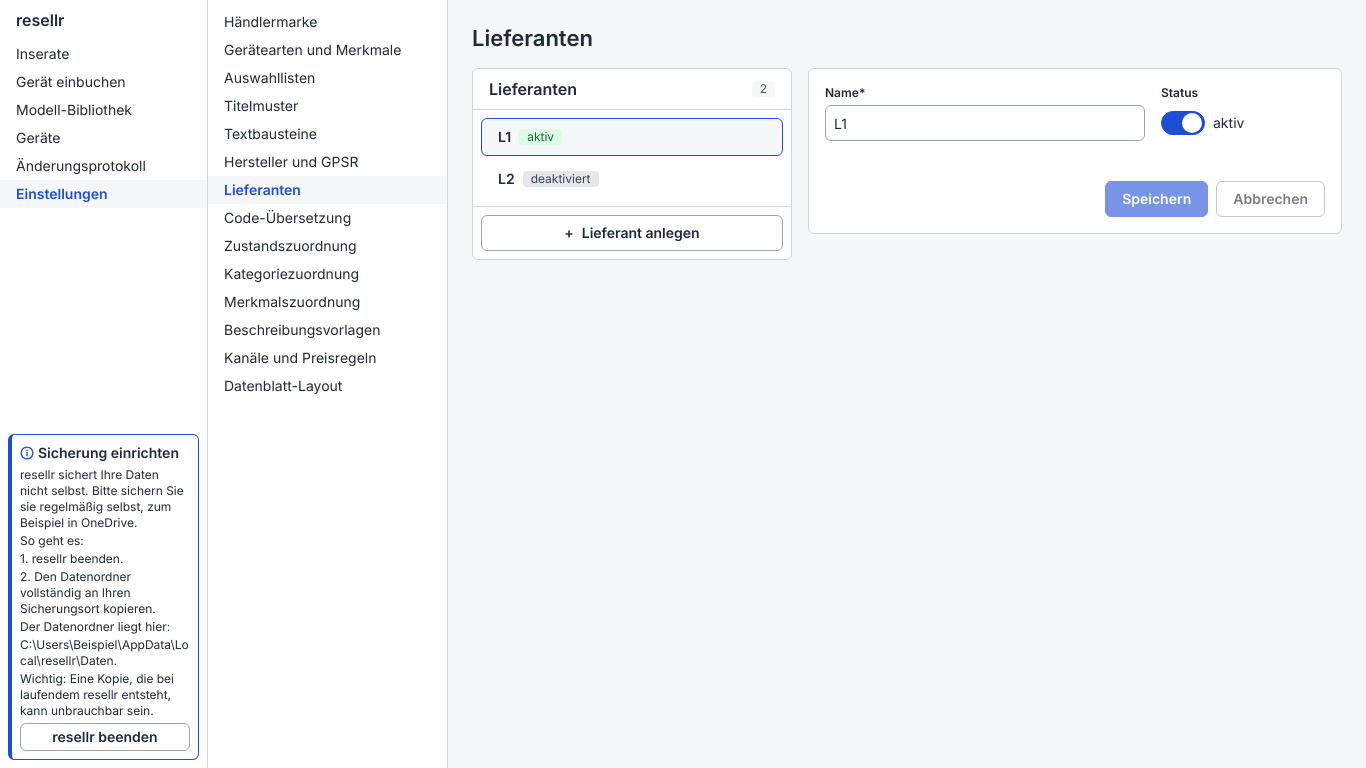
UI-032 suppliers (CU-099) › UI-032.success AC-REQ-099-03 the switch deactivates a supplier
The width and height of the screenshot is (1366, 768).
expect the button "L1 aktiv" is shown: met, box left=481, top=118, right=783, bottom=156
expect the field labelled "Name*" holds "L1": met, box left=825, top=105, right=1145, bottom=141
Click the switch named "Status" at (1183, 123), box left=1161, top=111, right=1205, bottom=135
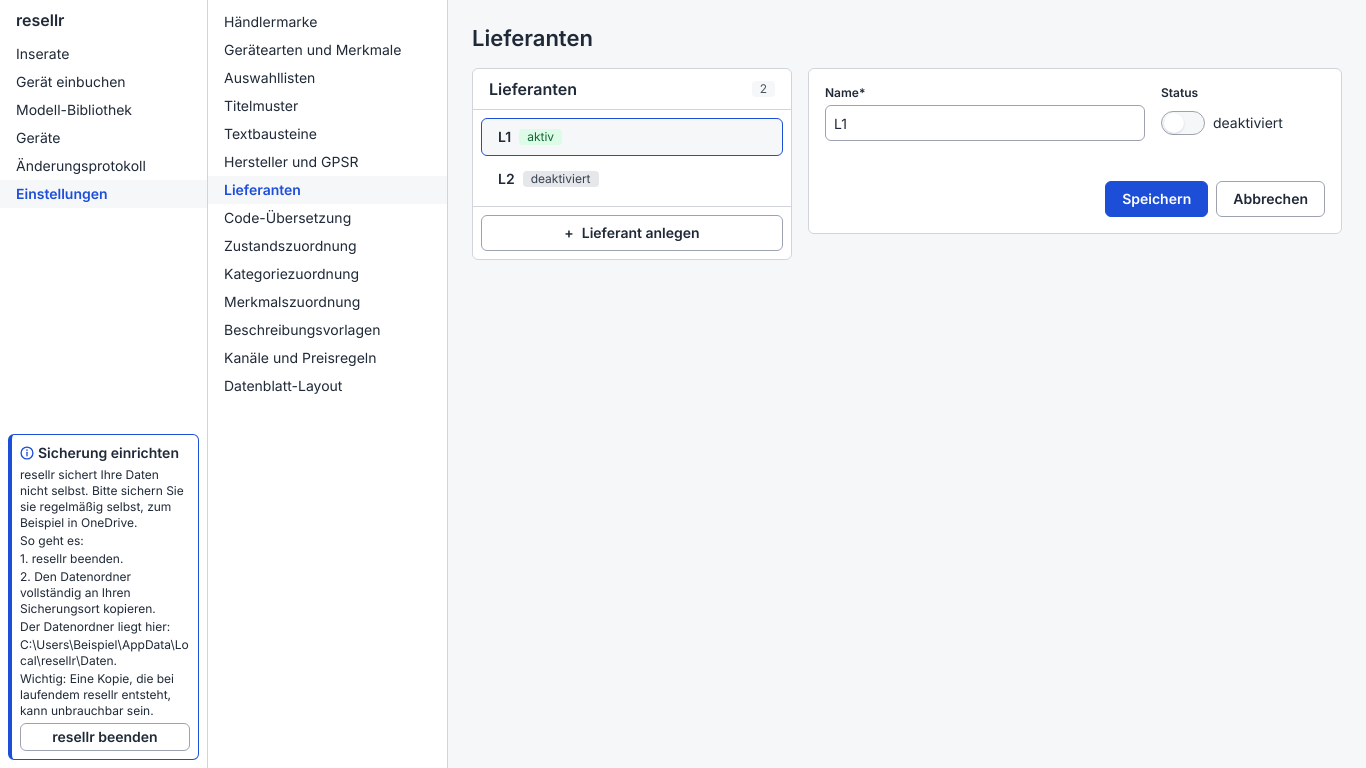
expect the switch named "Status" is not checked: met, box left=1161, top=111, right=1205, bottom=135
Click the button "Speichern" at (1157, 199), box left=1105, top=181, right=1208, bottom=217
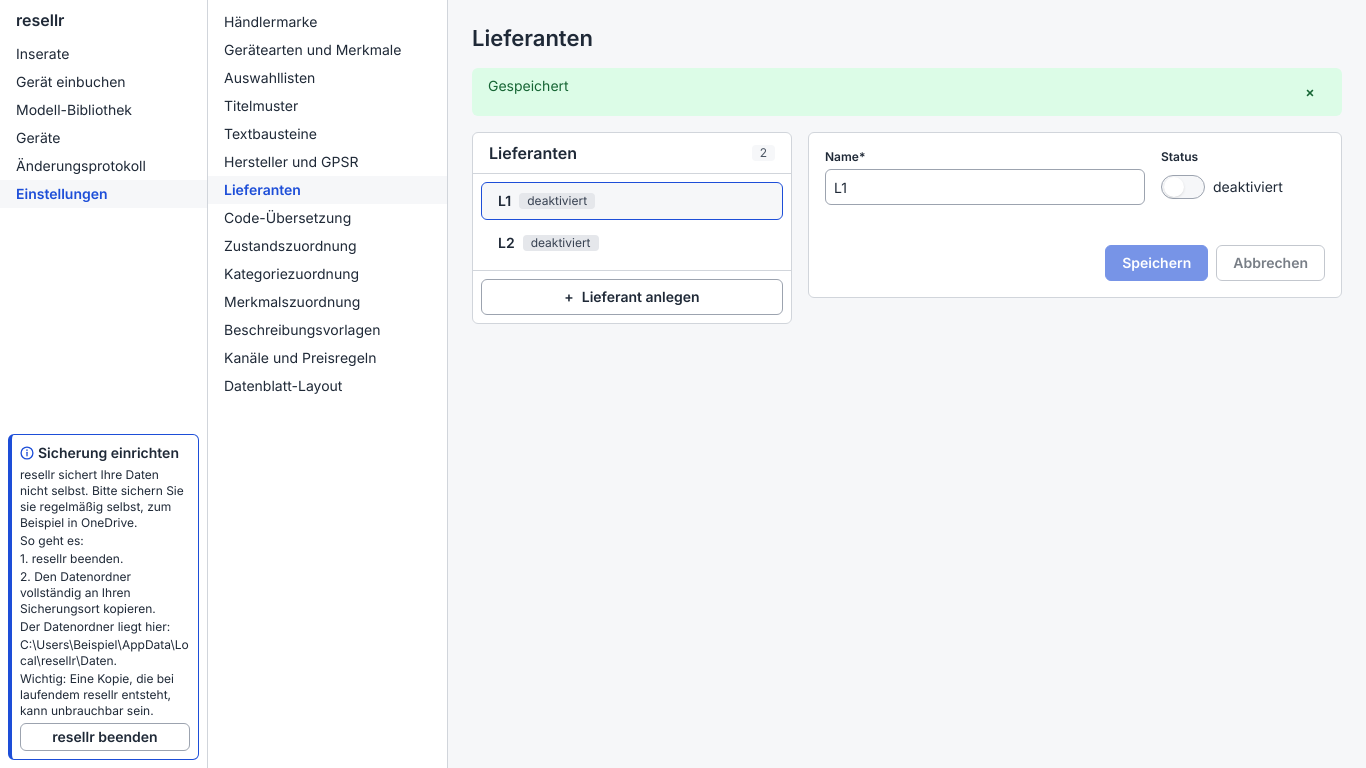
expect the text "Gespeichert" is shown: met, box left=488, top=77, right=569, bottom=94
expect the button "L1 deaktiviert" is shown: met, box left=481, top=182, right=783, bottom=220
